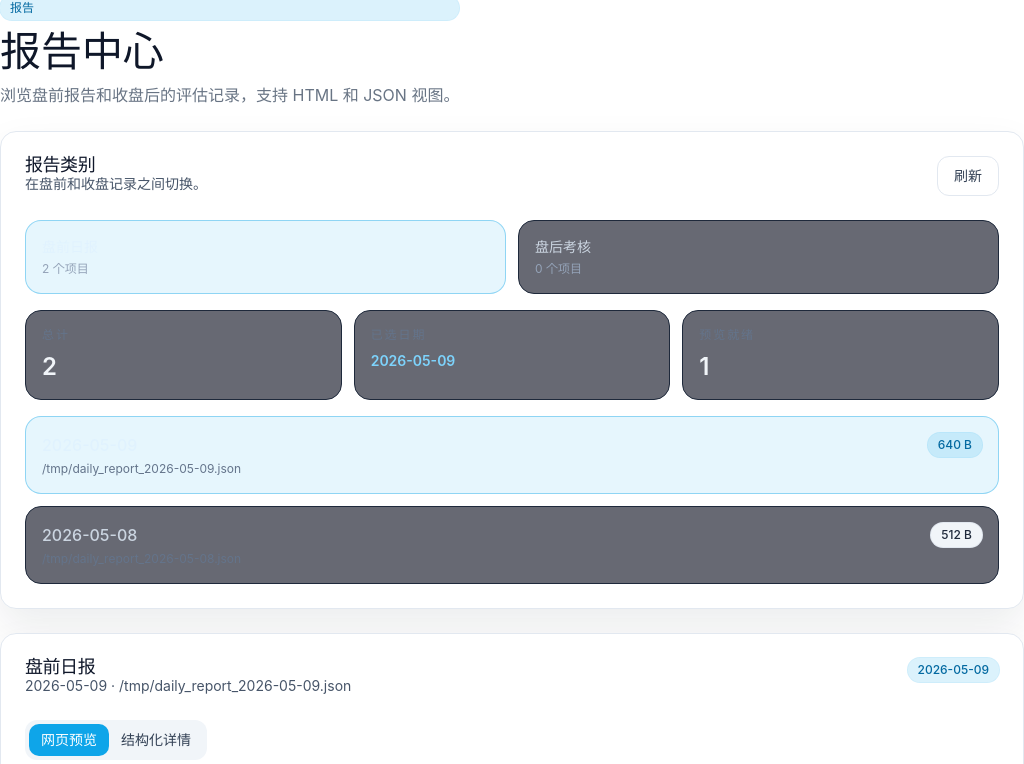
Scenario: ReportCenter › shows daily reports with HTML preview and JSON detail tabs
This screenshot has width=1024, height=764.
Expected: the heading "报告中心" is shown, [0,26,164,76]
Click the button "结构化详情" at (156, 740), box [109,724,203,756]
(page scrolled)
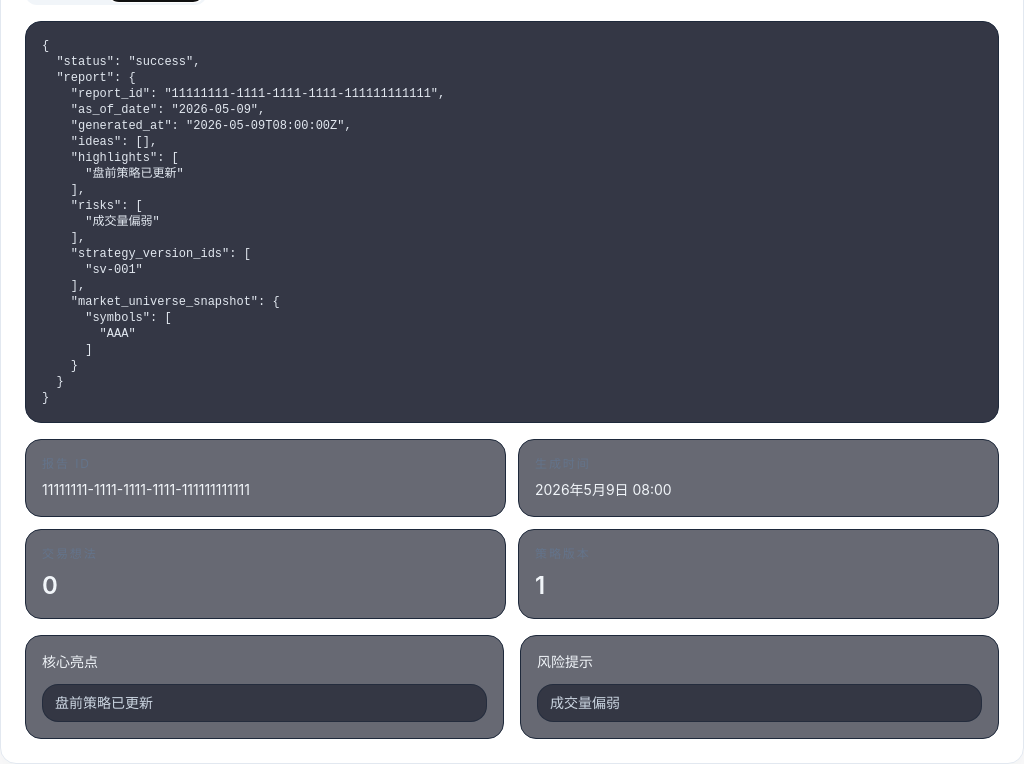
Expected: the element with test id "daily-report-id" shows "11111111-1111-1111-1111-111111111111", [42,481,250,498]
Expected: the text with test id "report-detail-json" shows "\"strategy_version_ids\"", [42,39,445,405]
